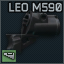M590A1 Mesa Tactical LEO gen.1 stock adapter: (0, 0, 64, 64)
